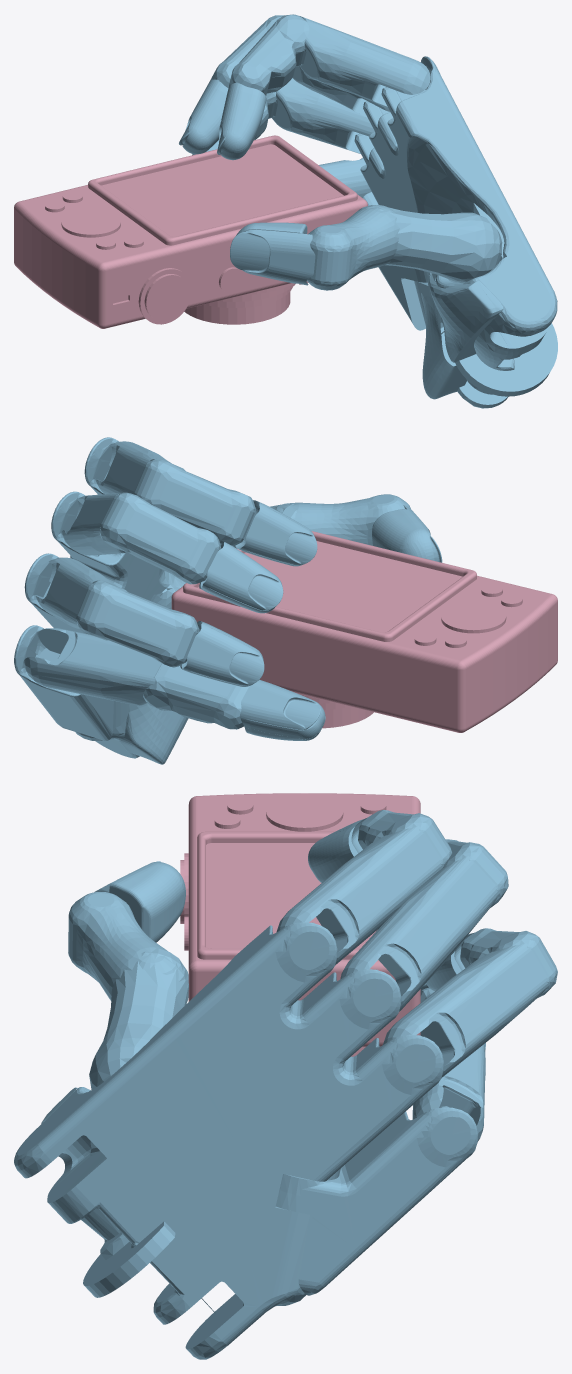
3 views of the same model, one above another, from view 1: azimuth 30°, elevation 25°; view 2: azimuth 150°, elevation 25°; view 3: azimuth 270°, elevation 25° (orthographic). The views are drawn at different scales.
Visible parts, largest first — view 1: world; view 2: world; view 3: world.
Boxes of the visible parts, left/top/right/bottom form: world: left=14, top=14, right=557, bottom=408; world: left=14, top=437, right=557, bottom=764; world: left=14, top=793, right=557, bottom=1359.
Size of the model in its own units: 0.1827 by 0.1436 by 0.1518.
